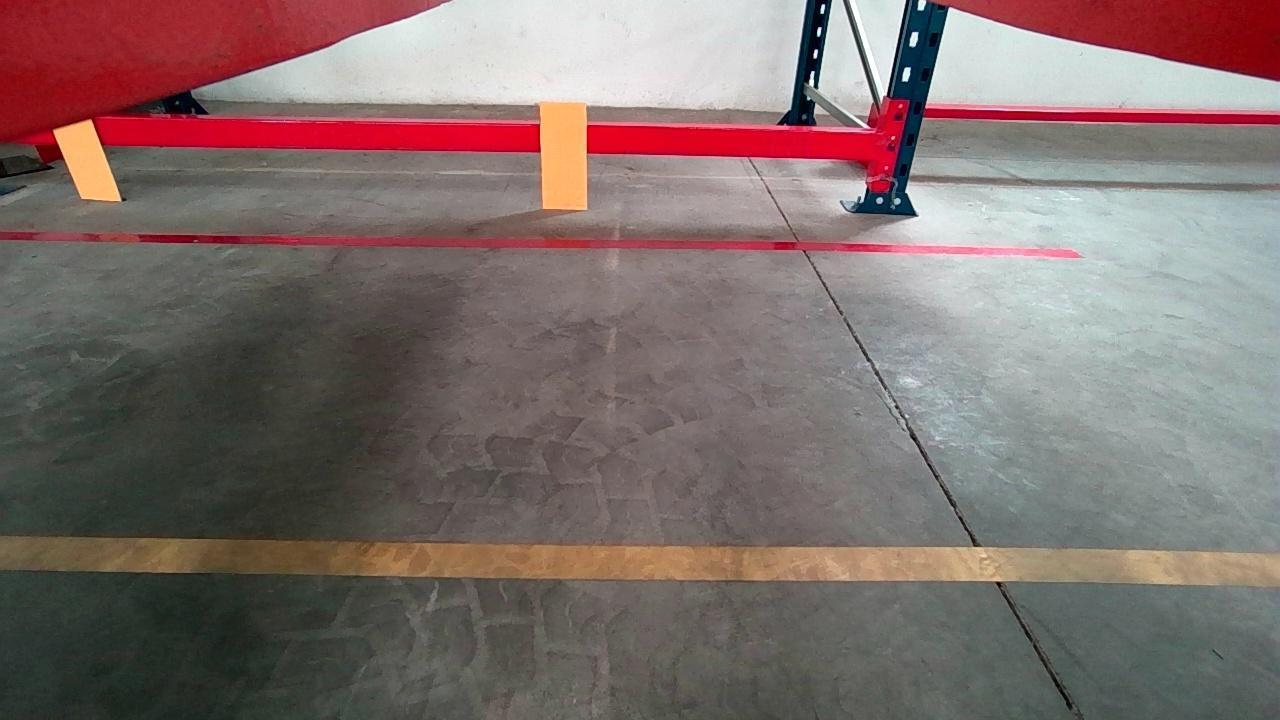h_rack: (11, 122, 876, 156)
orange_strip: (49, 117, 124, 199), (541, 100, 585, 208)
red_line: (2, 228, 1082, 257)
